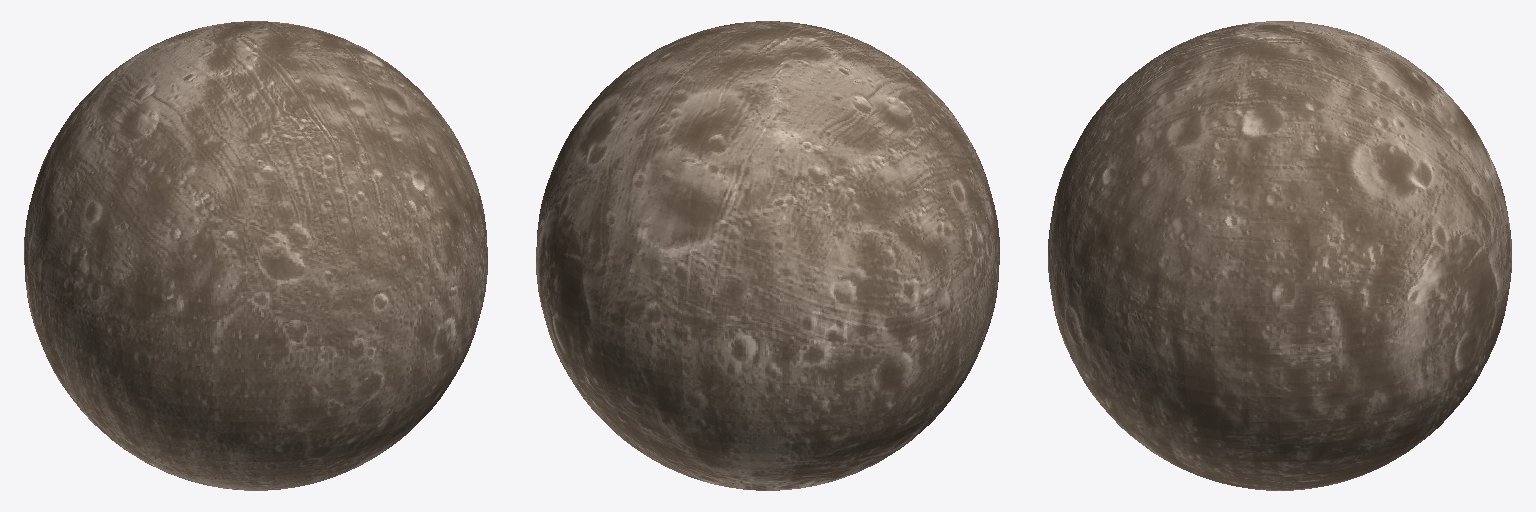
3 views of the same model, side by side, from view 1: azimuth 30°, elevation 25°; view 2: azimuth 150°, elevation 25°; view 3: azimuth 270°, elevation 25° (orthographic).
Parts seen in each view (by area): view 1: phobos; view 2: phobos; view 3: phobos.
Boxes of the visible parts, box(x1,y1,x2,y2) form: phobos: box(24, 21, 487, 490); phobos: box(536, 21, 999, 490); phobos: box(1048, 21, 1511, 490).
Size of the model in its own units: 4.92 by 4.97 by 4.92.
1 materials, 1 textured.